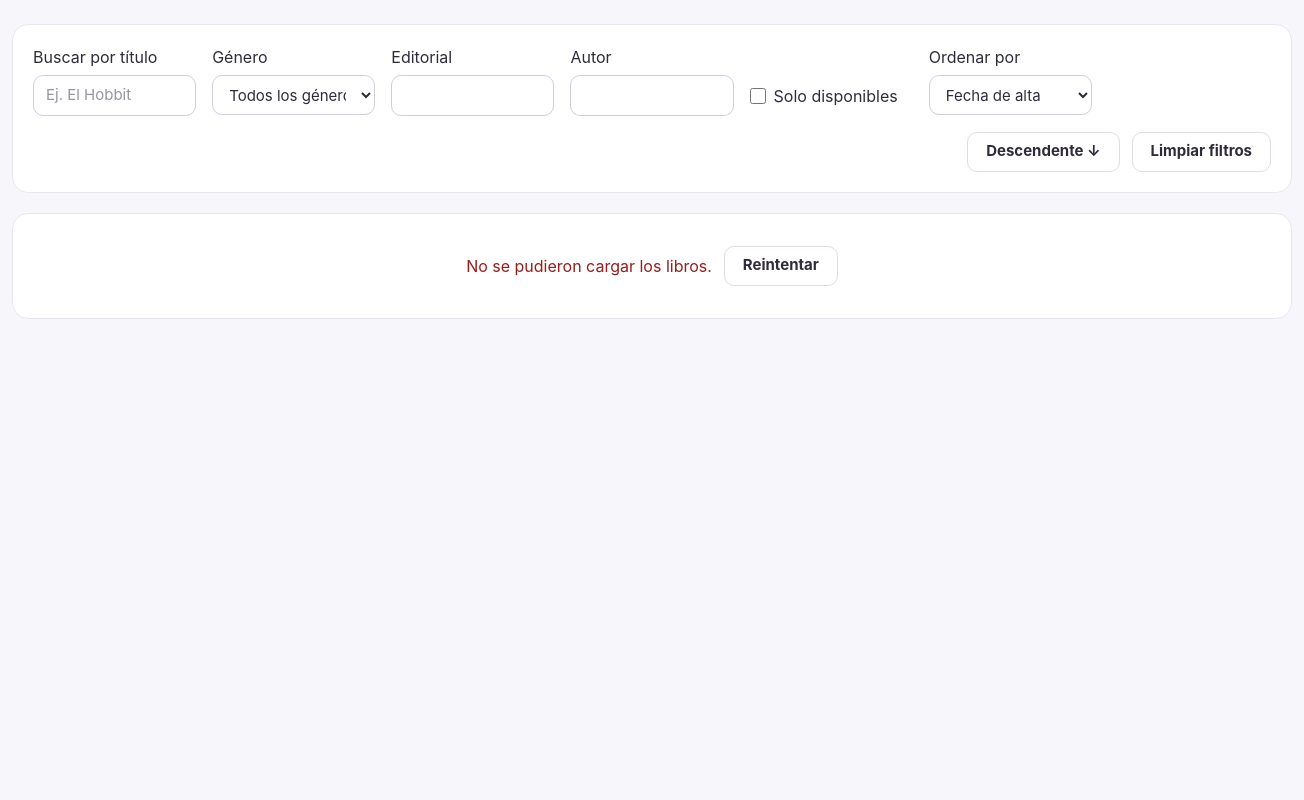
Test case: BookList › retries loading when the user presses Reintentar
Click the button "Reintentar" at (781, 266), box [724,246,838,286]
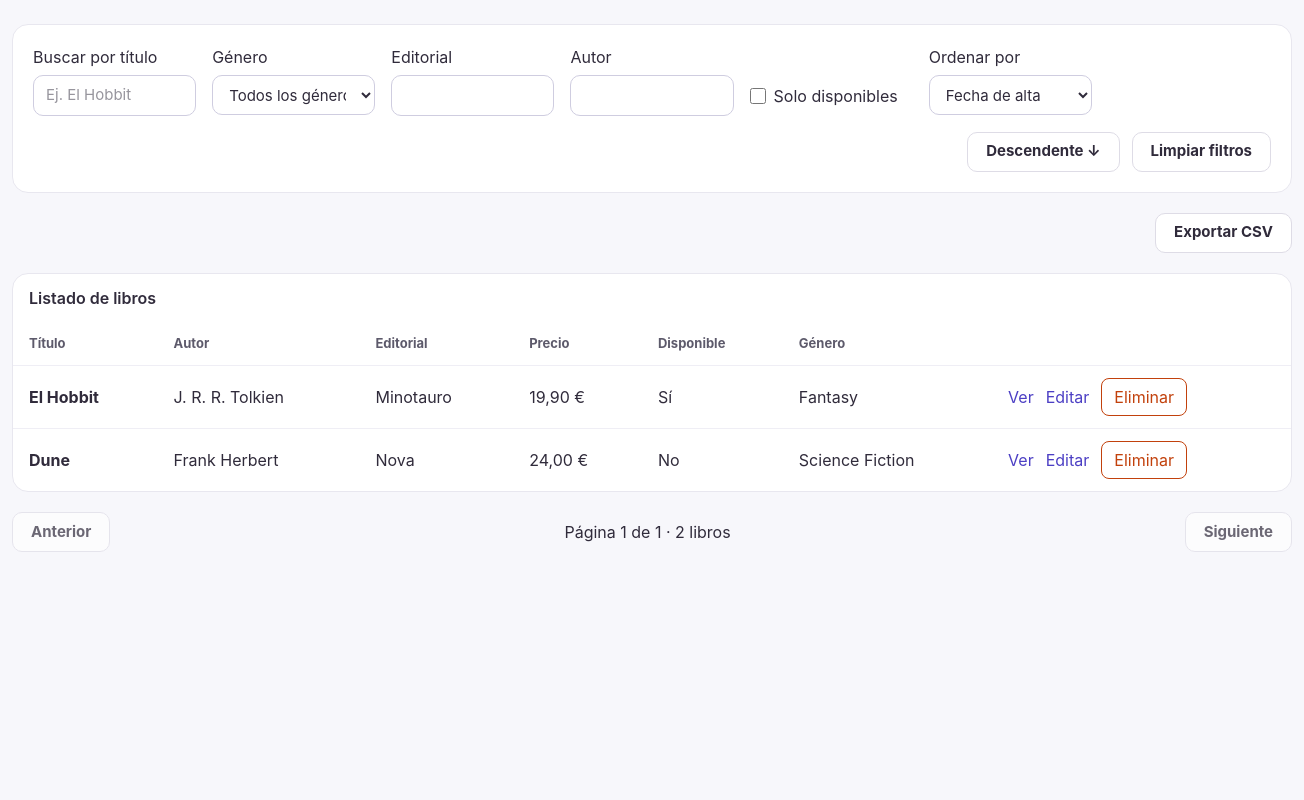
Now the table "Listado de libros" is shown, box [13,274,1291,491]
